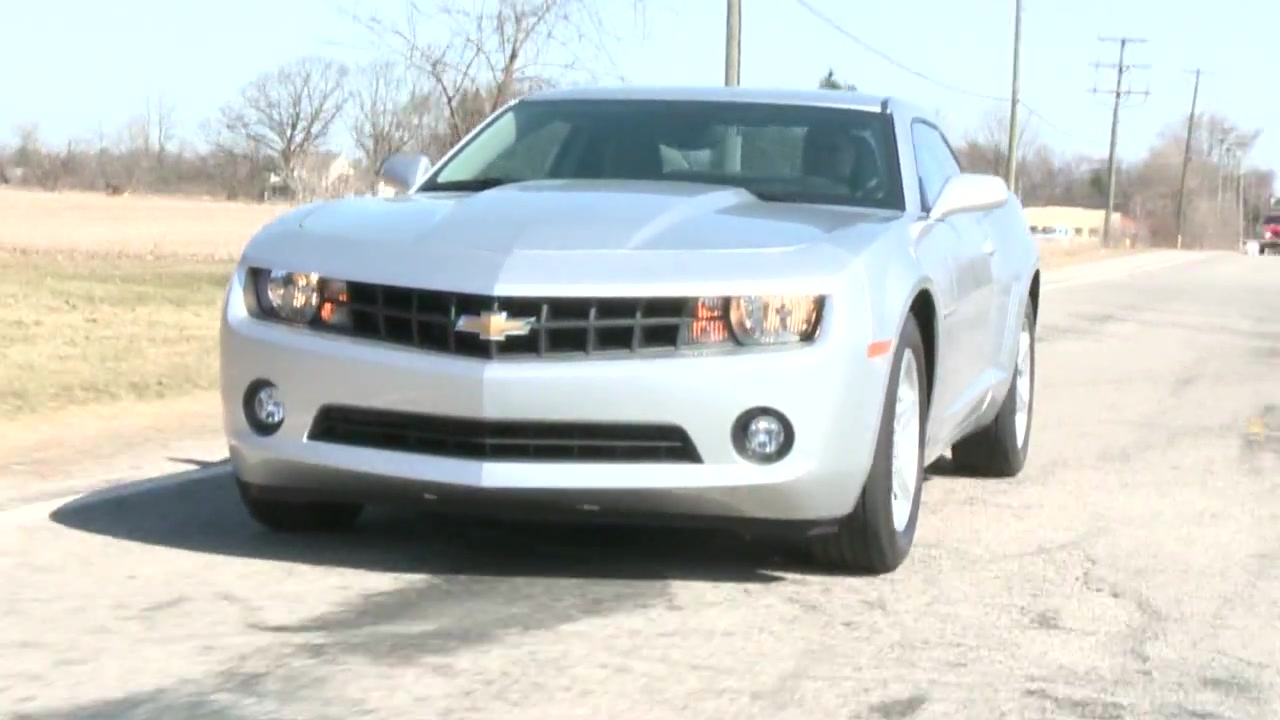car: (209, 76, 1046, 575)
